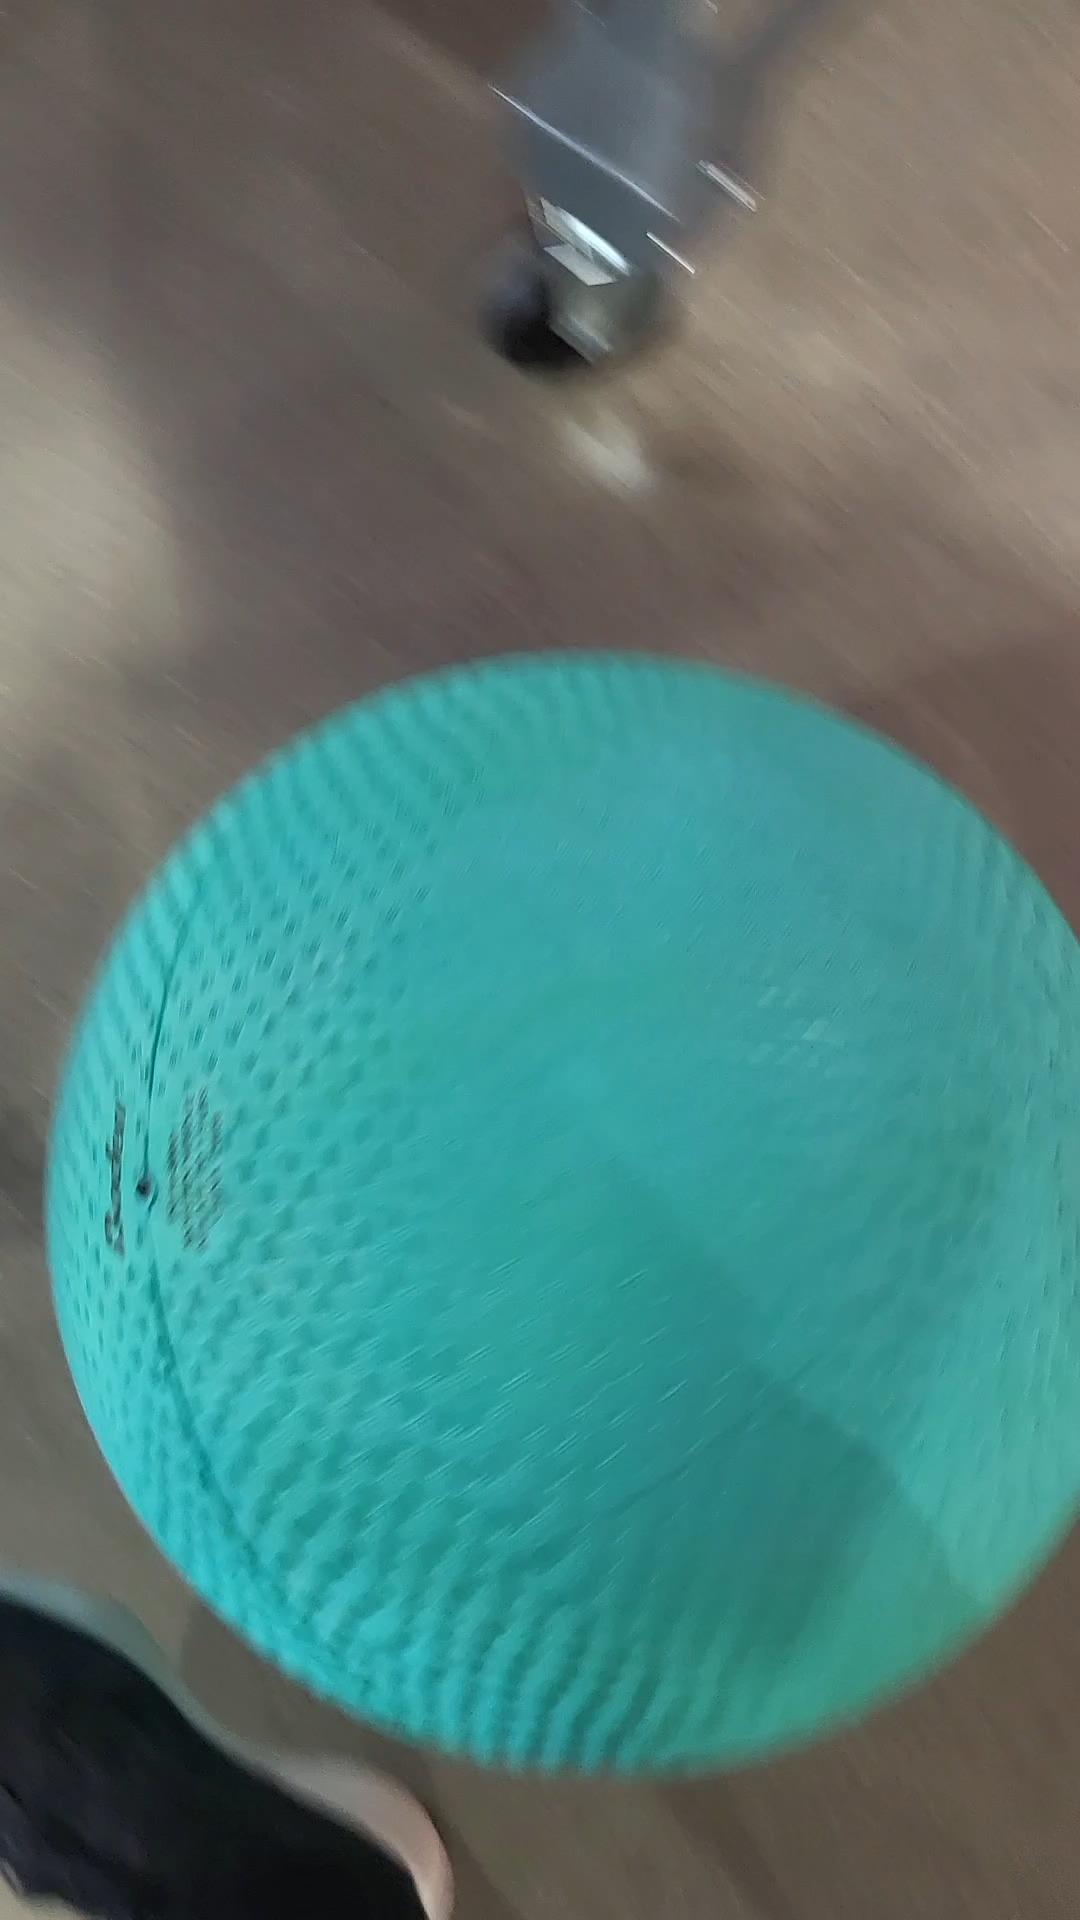algae: (41, 639, 1080, 1786)
